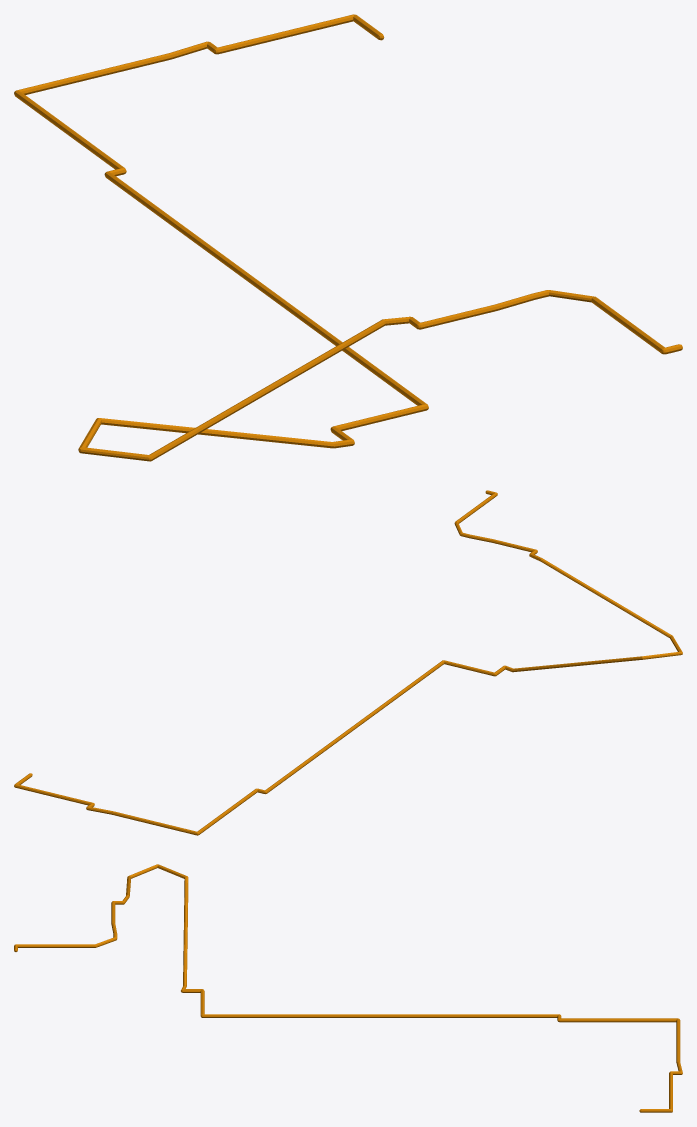
3 views of the same model, one above another, from view 1: azimuth 30°, elevation 25°; view 2: azimuth 150°, elevation 25°; view 3: azimuth 270°, elevation 25° (orthographic). The views are drawn at different scales.
Bounding box in the file's own units: 2407 × 520 × 3375.
